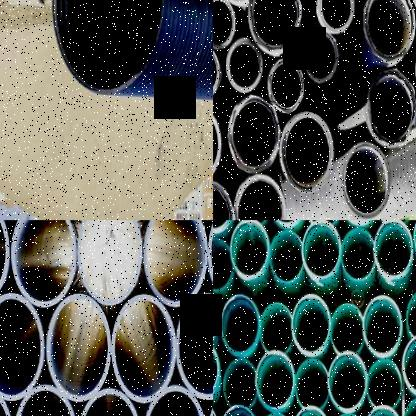pipe: (52, 0, 164, 96), (46, 293, 112, 402), (112, 295, 176, 403), (11, 220, 77, 308), (143, 220, 208, 308), (77, 220, 141, 305), (0, 293, 43, 401), (280, 112, 334, 192), (228, 97, 280, 173), (341, 142, 392, 219), (177, 294, 213, 400), (366, 68, 416, 143), (362, 0, 415, 61), (248, 0, 303, 56), (362, 295, 403, 356), (291, 293, 331, 355), (327, 351, 368, 410), (234, 175, 287, 220), (255, 350, 294, 410), (222, 294, 260, 353), (302, 220, 341, 277), (230, 220, 269, 277), (374, 220, 412, 278), (267, 59, 304, 114), (14, 384, 76, 416), (142, 385, 206, 416), (227, 38, 262, 93), (303, 32, 339, 83), (77, 387, 140, 416), (270, 230, 303, 282), (342, 228, 375, 280), (295, 358, 329, 408), (260, 302, 293, 353), (368, 359, 402, 407), (331, 304, 364, 353), (224, 358, 257, 406), (317, 0, 354, 33), (213, 0, 235, 48), (213, 238, 232, 290), (402, 333, 416, 395), (219, 404, 258, 416), (362, 405, 402, 416), (407, 289, 416, 337), (219, 0, 258, 9)
